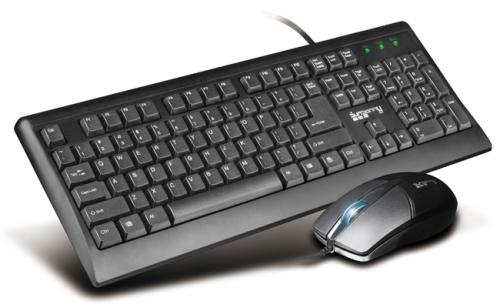keyboard: (17, 21, 494, 283)
mouse: (313, 172, 460, 262)
